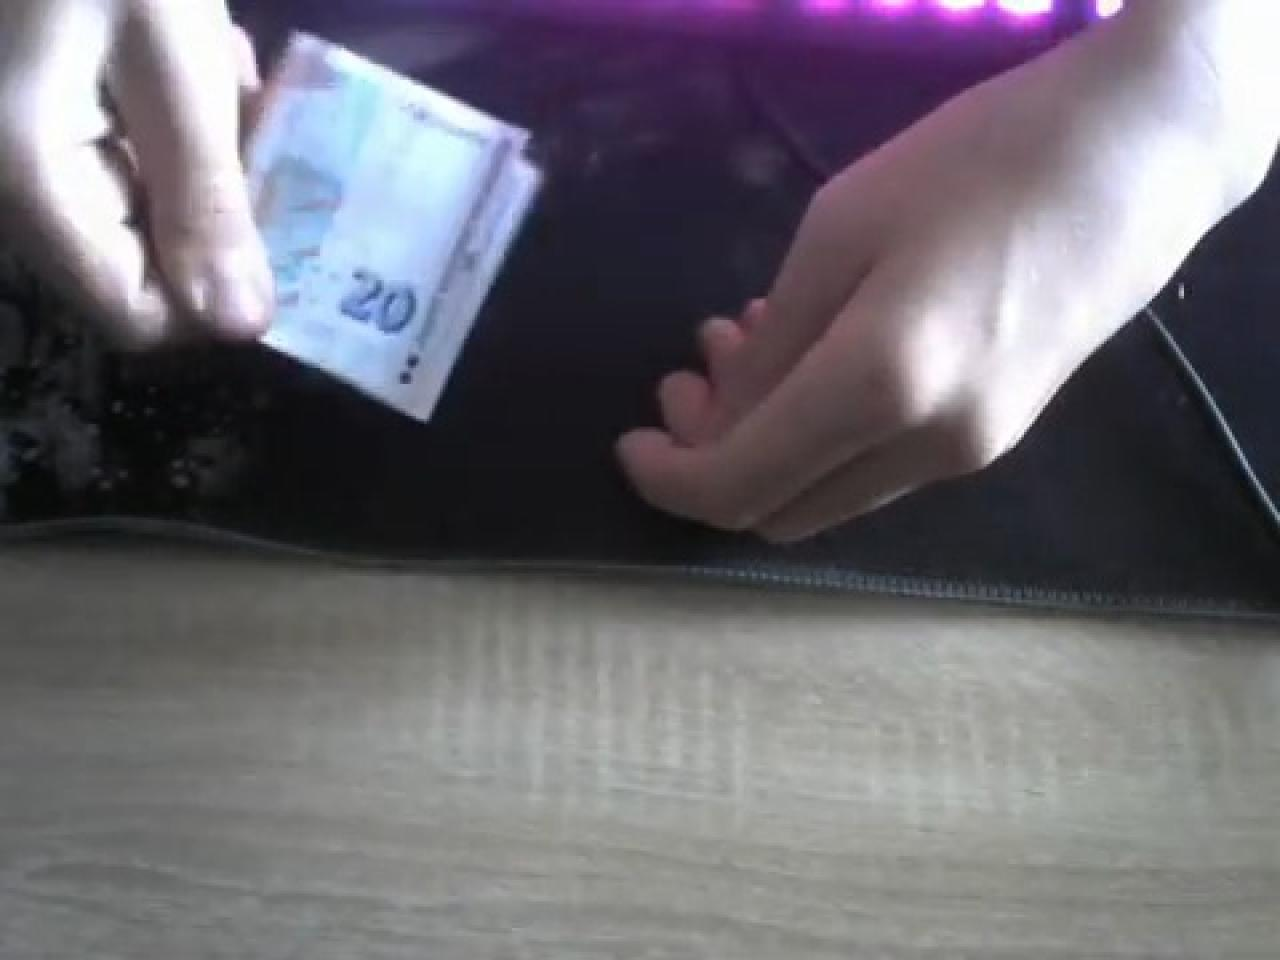20leva: (243, 34, 544, 430)
